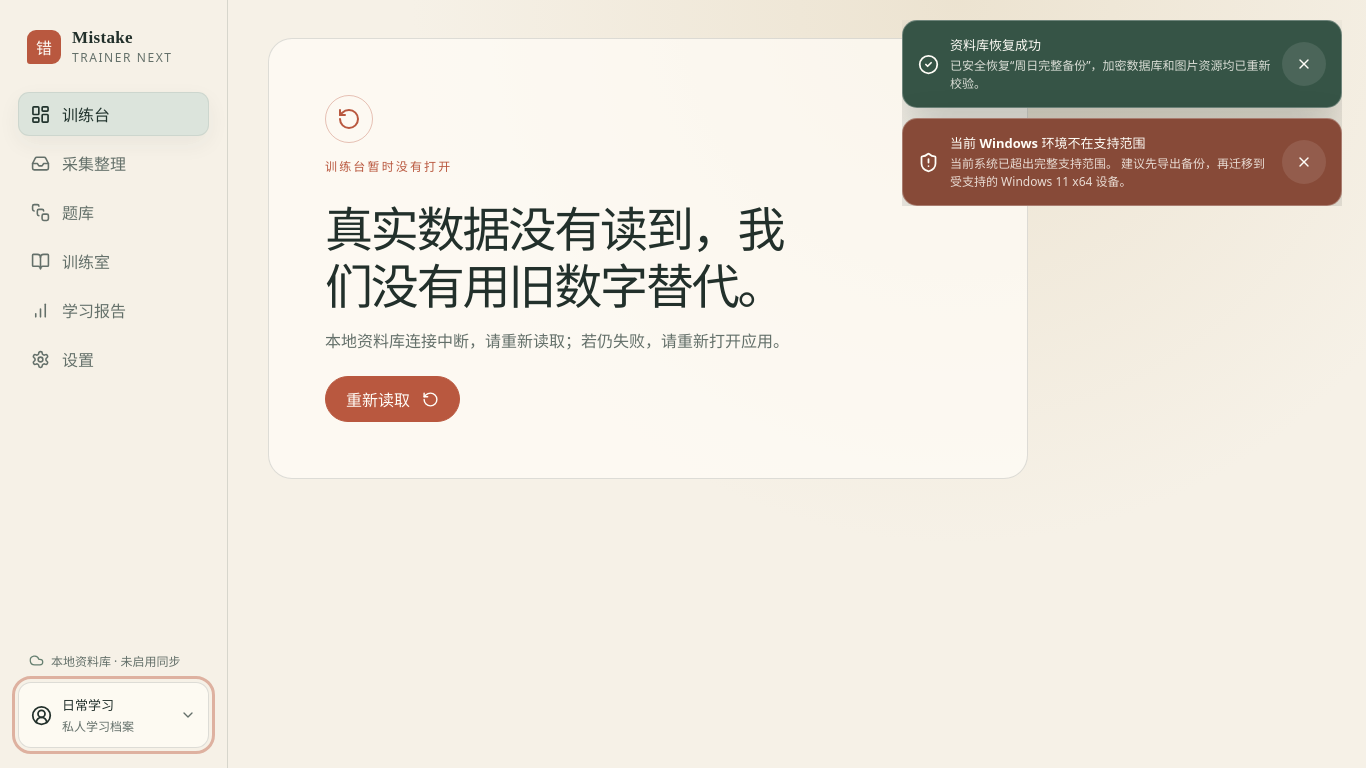
Scenario: App profile orchestration › stacks simultaneous global notices and dismisses each notice independently
Click the button named "关闭恢复结果通知" at (1304, 64), box [1282,42,1326,86]
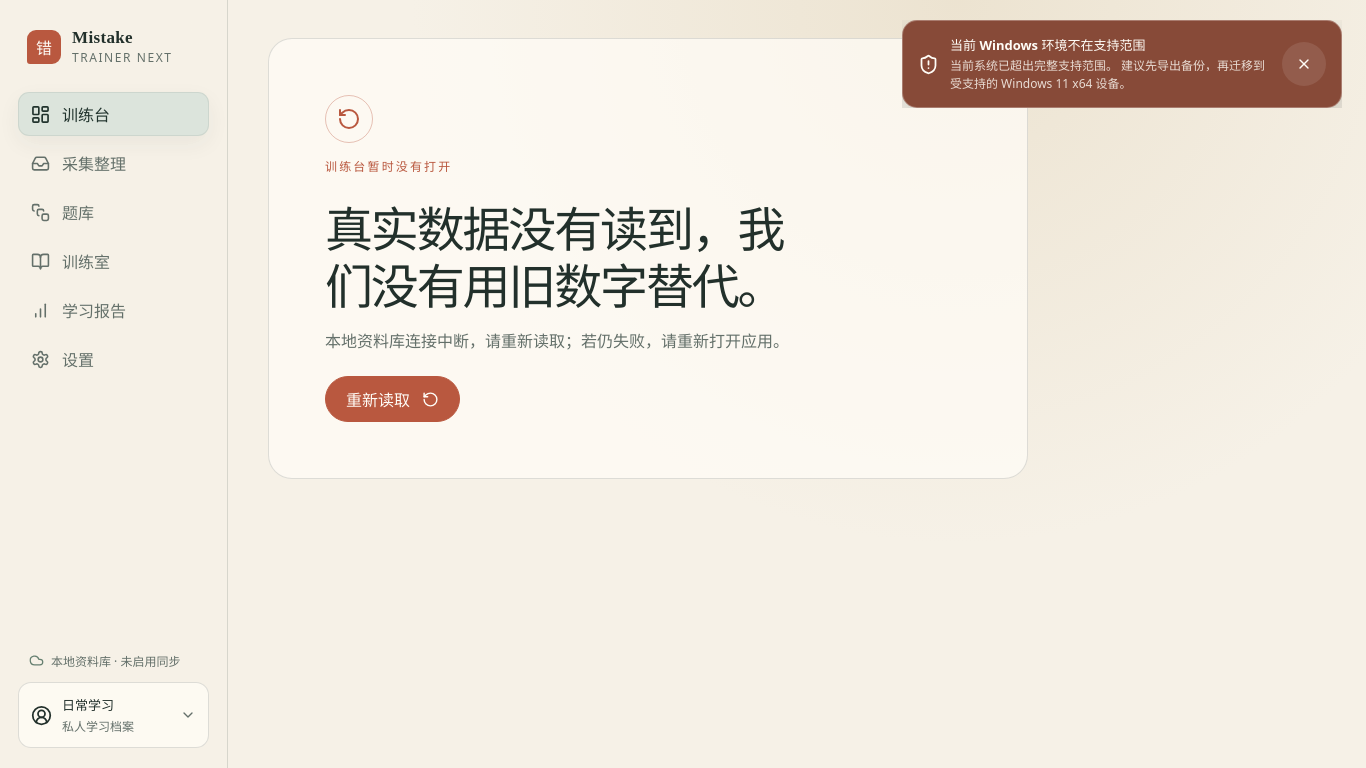
Expected: the text "当前 Windows 环境不在支持范围" is shown, [950,36,1146,54]
Result: the text "资料库恢复成功" is gone
Click the button named "关闭 Windows 兼容性通知" at (1304, 64), box [1282,42,1326,86]
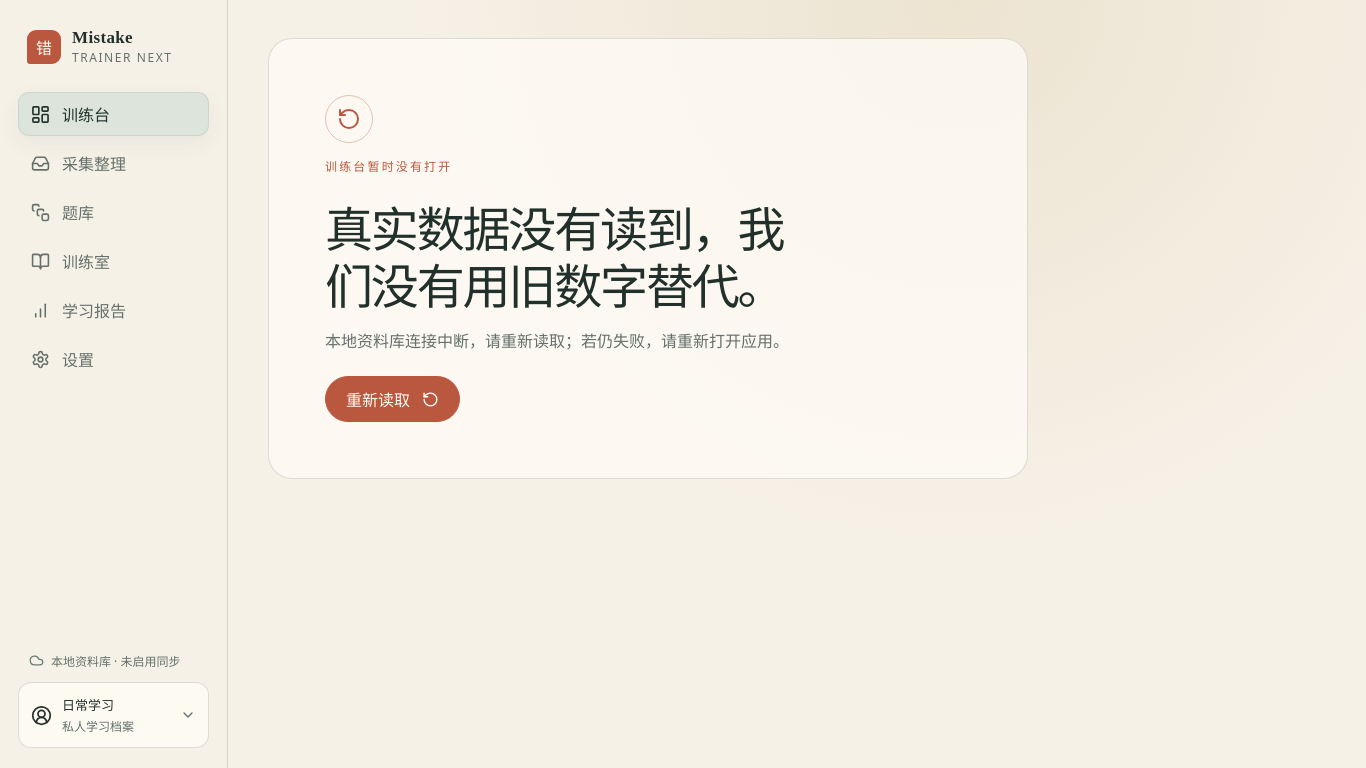
Result: the text "当前 Windows 环境不在支持范围" is gone
